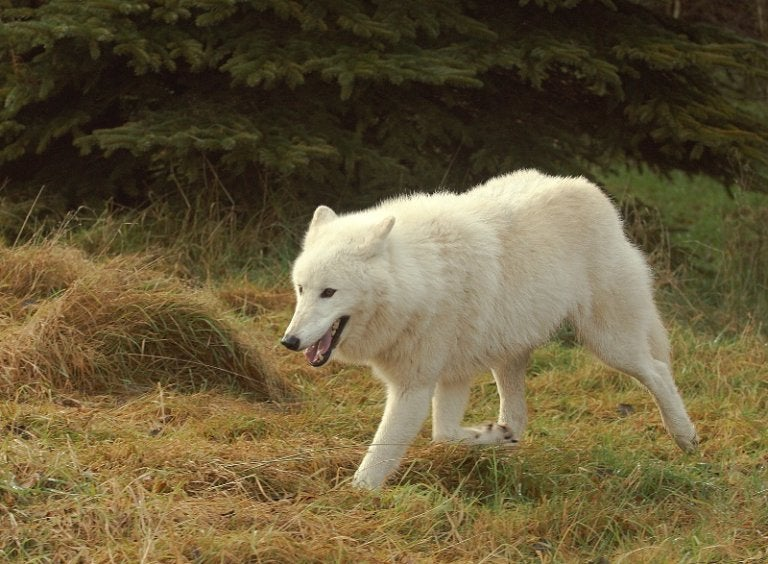Lobo: (263, 150, 712, 476)
